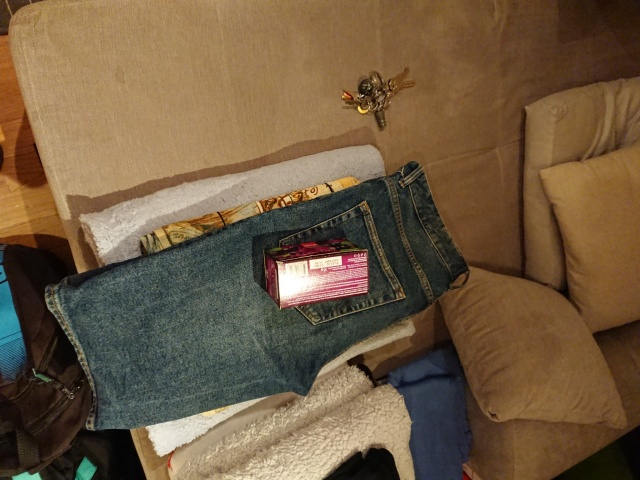Franck Black Currant Tea 60g: (259, 235, 373, 312)
